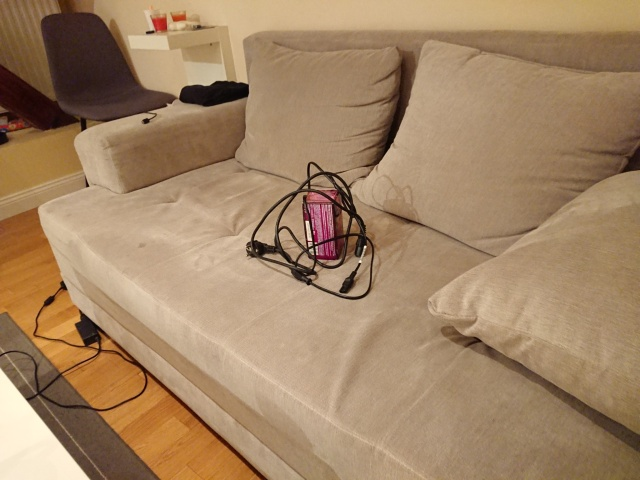Franck Black Currant Tea 60g: (300, 187, 346, 262)
